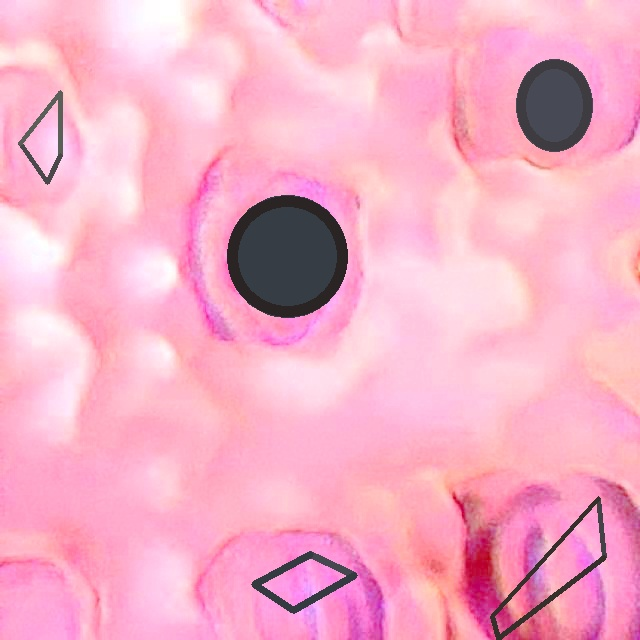open: (491, 496, 605, 639), (228, 195, 347, 317), (516, 59, 591, 151), (252, 551, 357, 613), (18, 91, 62, 184)
